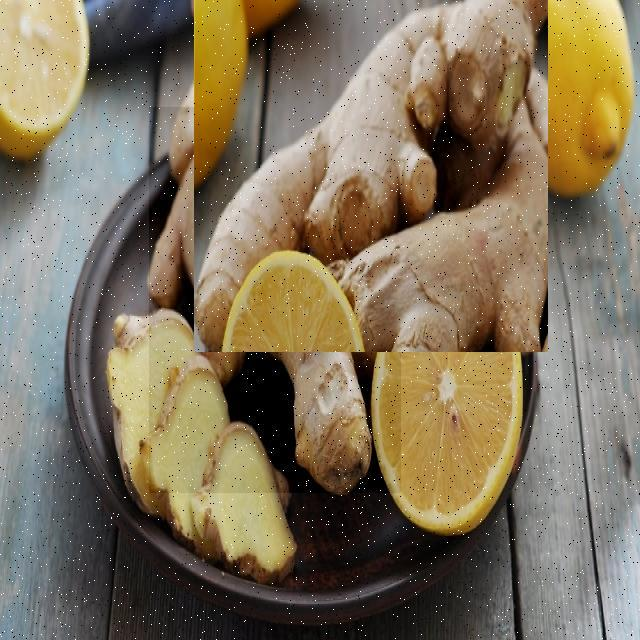ginger: (194, 0, 547, 351), (148, 106, 399, 492)
